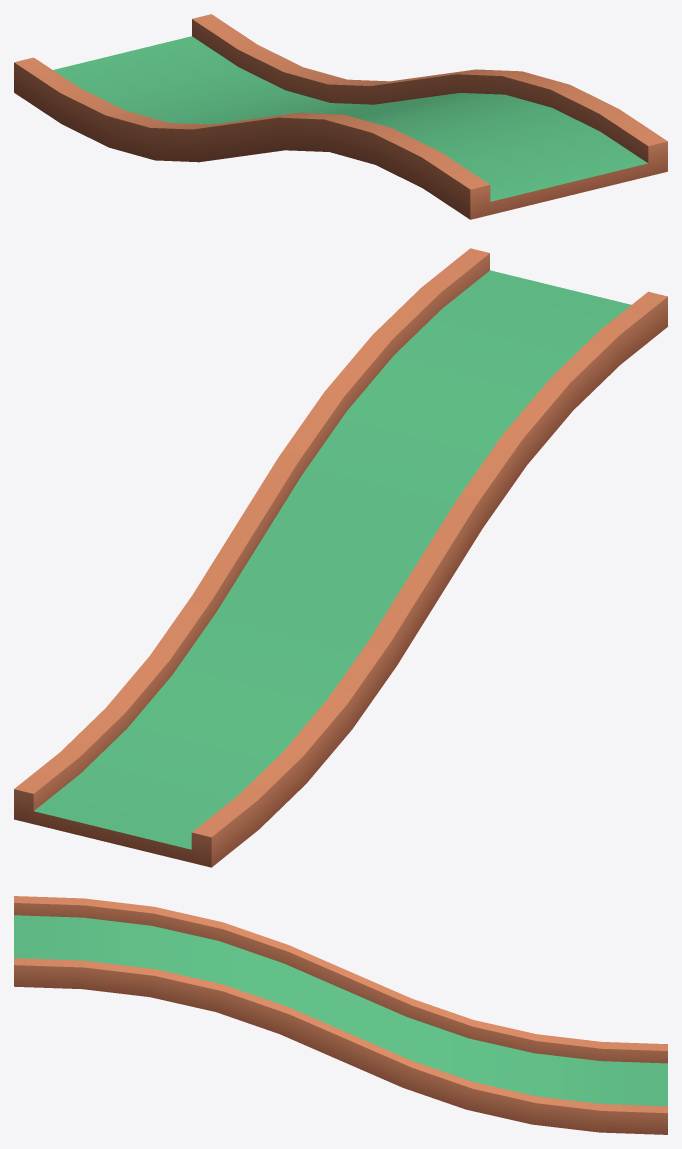
File: spline-default-straight-hill-complete.glb
The picture shows the model from 3 angles, top to bottom: view 1: azimuth 30°, elevation 25°; view 2: azimuth 150°, elevation 25°; view 3: azimuth 270°, elevation 25°; orthographic projection. The views are drawn at different scales.
Visible parts, largest first — view 1: spline-default-straight-hill-complete; view 2: spline-default-straight-hill-complete; view 3: spline-default-straight-hill-complete.
Boxes of the visible parts, x1=… form: spline-default-straight-hill-complete: x1=14, y1=14, x2=667, y2=219; spline-default-straight-hill-complete: x1=14, y1=248, x2=667, y2=867; spline-default-straight-hill-complete: x1=14, y1=896, x2=667, y2=1134.
Size of the model in its own units: 0.9998 by 1.15 by 4.
Materials: 1 (1 with a texture image).
